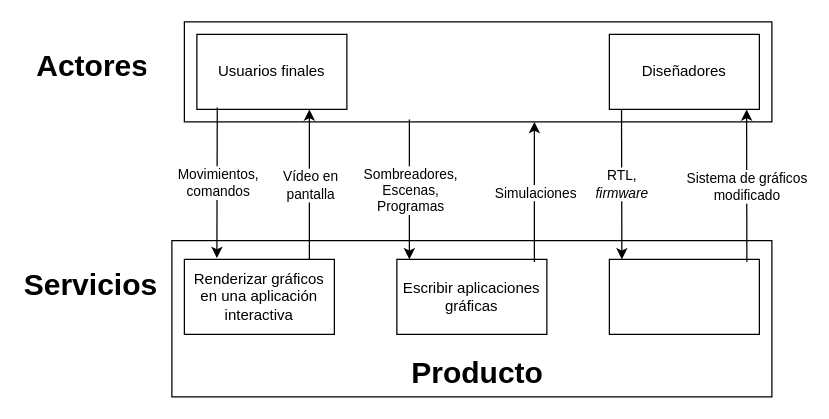
The diagram is 829 pixels wide and 419 high, and some of its shapes have lost their labels. Each missing label, with the box of its shape:
Desarrolladores e investigadores: (183, 21, 772, 122)
Extender o alterar las funciones del sistema: (608, 258, 759, 334)
